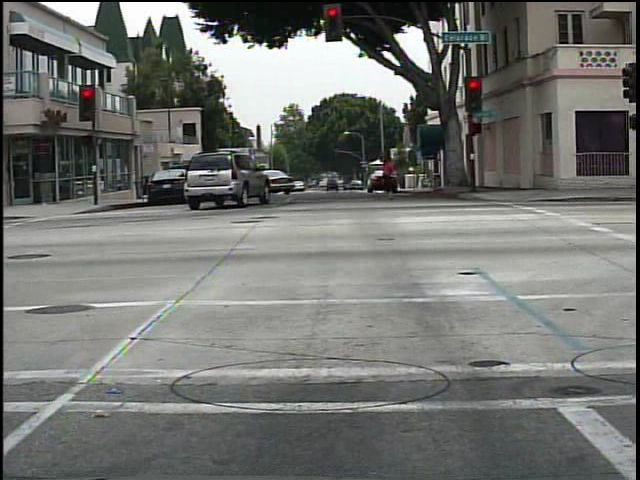person: (375, 151, 404, 200)
